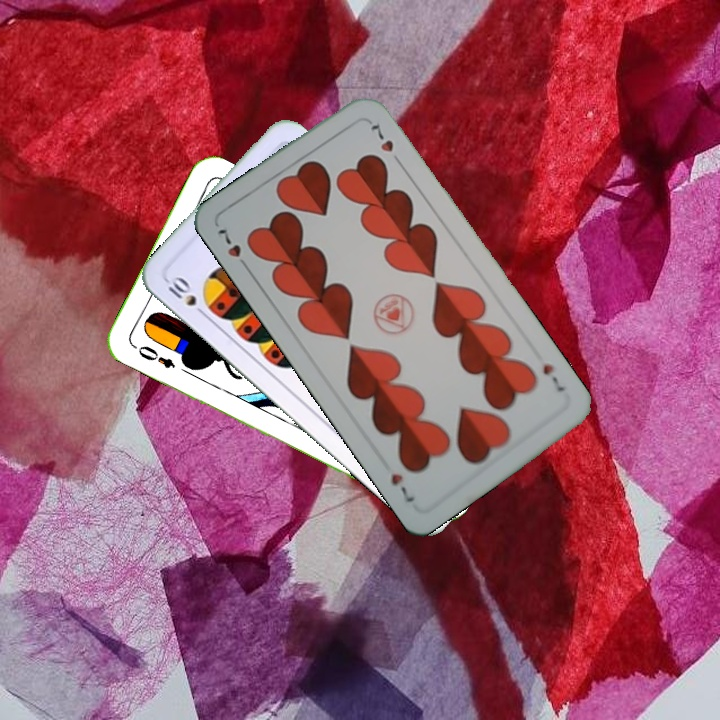EO: (134, 341, 178, 372)
H7: (213, 222, 253, 274), (538, 360, 567, 395)
S10: (162, 272, 210, 320)
